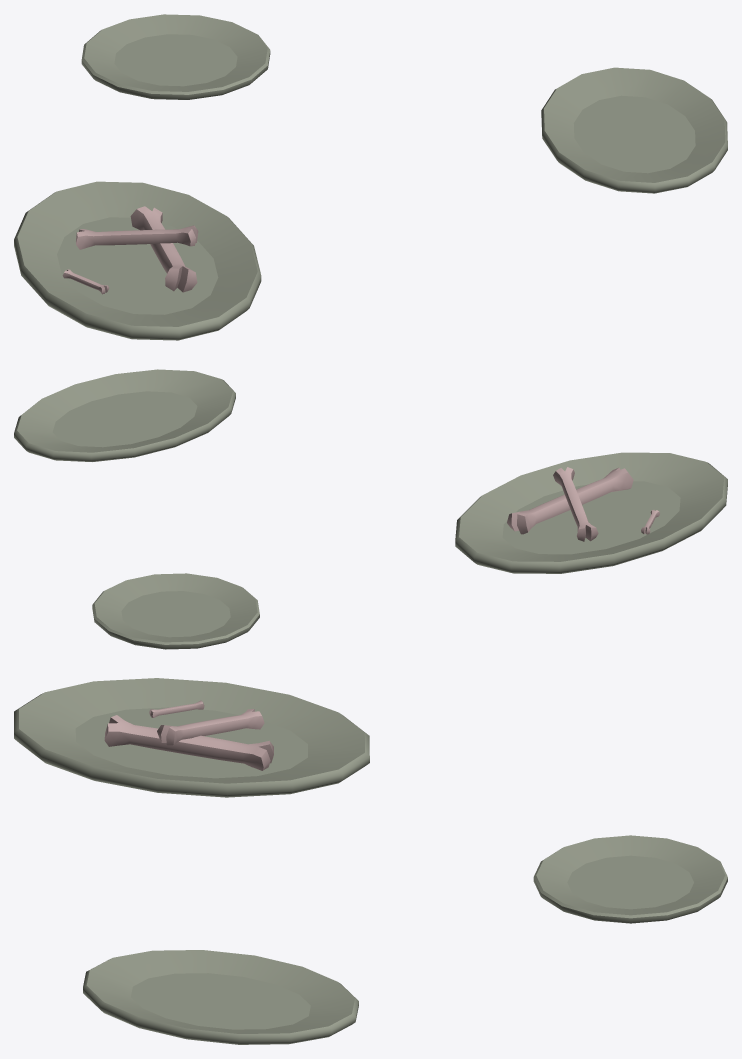
File: Plattery_1.fbx
3 renders of one model, top to bottom at view 1: azimuth 30°, elevation 25°; view 2: azimuth 150°, elevation 25°; view 3: azimuth 270°, elevation 25°, orthographic. The views are drawn at different scales.
Parts seen in each view (by area): view 1: 1_Plattery_3; view 2: 1_Plattery_3; view 3: 1_Plattery_3.
Part boxes in pixels (x1,y1,x2,y2): 1_Plattery_3: [14, 14, 727, 340]; 1_Plattery_3: [14, 369, 727, 649]; 1_Plattery_3: [14, 678, 727, 1044].
Bounding box in the file's own units: 95.71 × 7.85 × 81.93.
